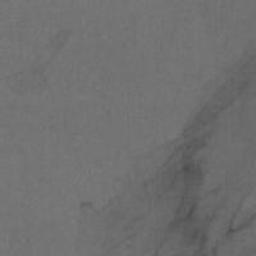Water spot: (69, 36, 256, 256), (0, 27, 81, 99)
